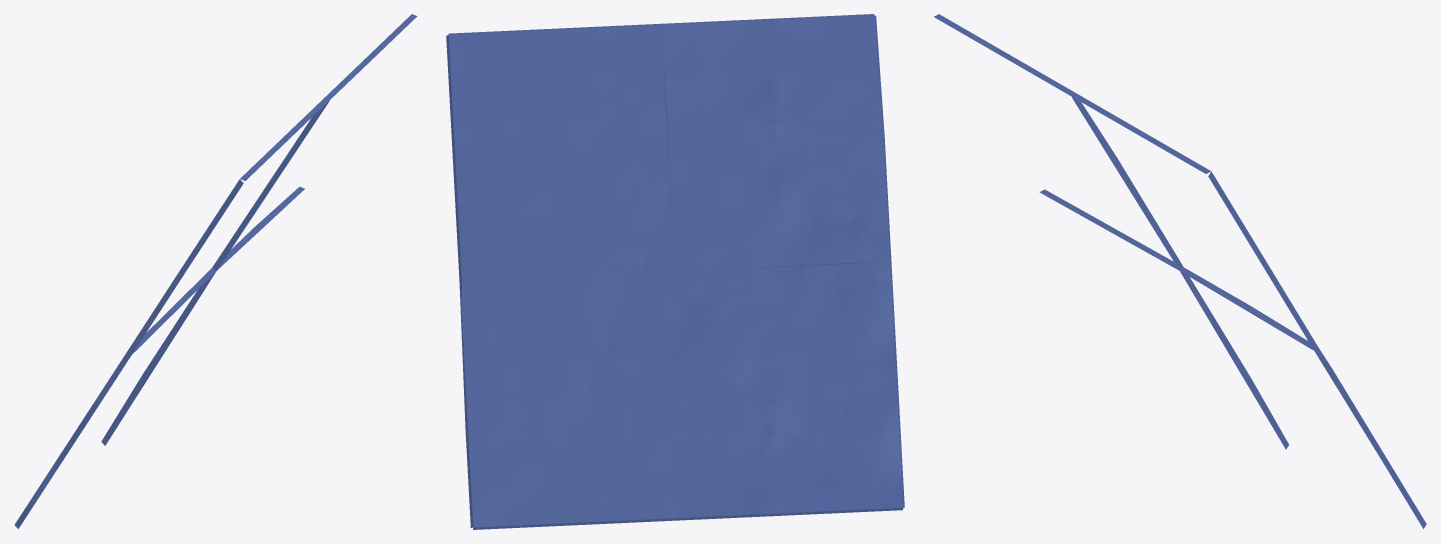
3 renders of one model, left to right at view 1: azimuth 30°, elevation 25°; view 2: azimuth 150°, elevation 25°; view 3: azimuth 270°, elevation 25°, orthographic. The views are drawn at different scales.
Bounding box in the file's own units: 78758 × 68628 × 72573.
Materials: 1 (1 with a texture image).
